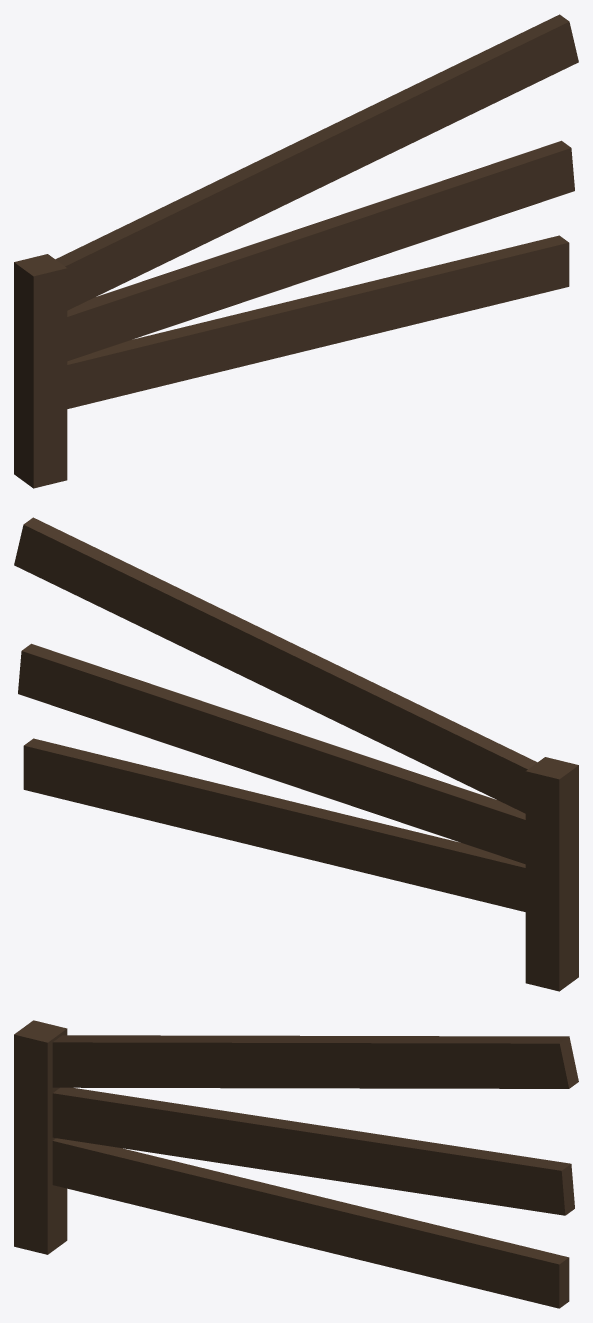
The model's file is Barn Fence Post End.glb.
3 views of the same model, one above another, from view 1: azimuth 30°, elevation 25°; view 2: azimuth 150°, elevation 25°; view 3: azimuth 330°, elevation 25° (orthographic).
Parts seen in each view (by area): view 1: Fence post end; view 2: Fence post end; view 3: Fence post end.
Boxes of the visible parts, box(x1,y1,x2,y2) form: Fence post end: box(14, 14, 578, 488); Fence post end: box(14, 517, 578, 991); Fence post end: box(14, 1020, 578, 1308).
Size of the model in its own units: 3.26 by 1.87 by 0.2.
Materials: 1 (1 with a texture image).
